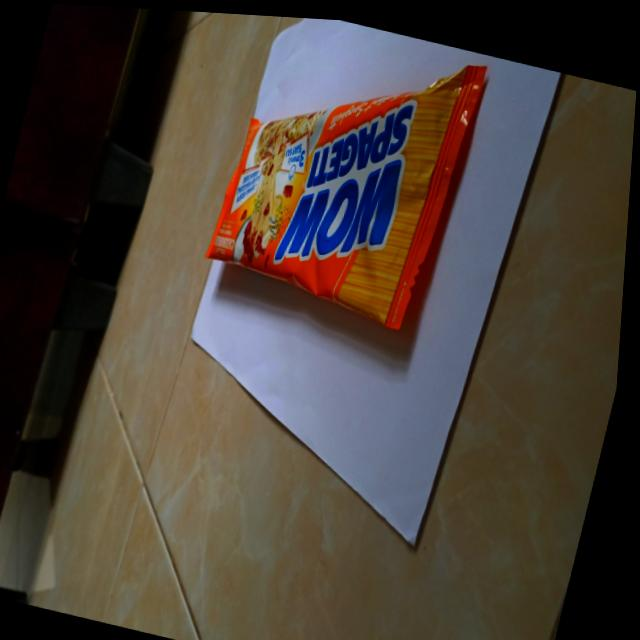indomie-tori-miso: (197, 10, 493, 337)
